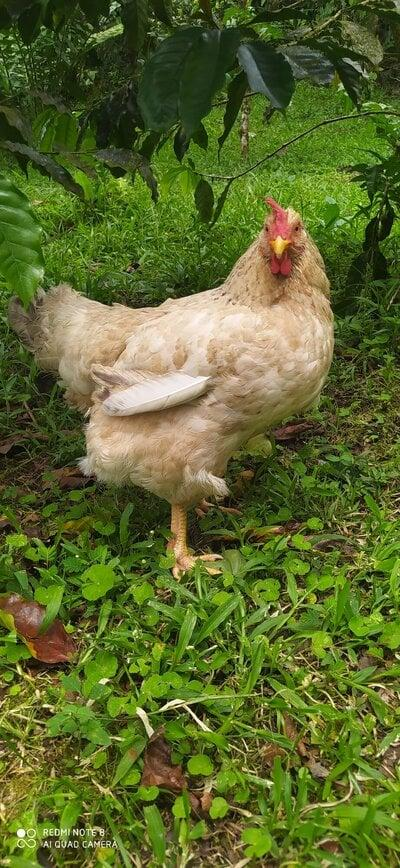AbNormal: (18, 197, 340, 576)
